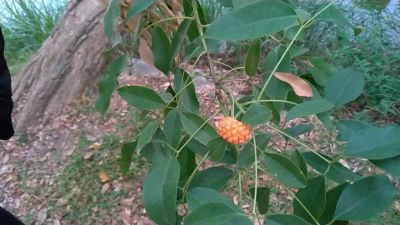eggs: (216, 116, 252, 145)
